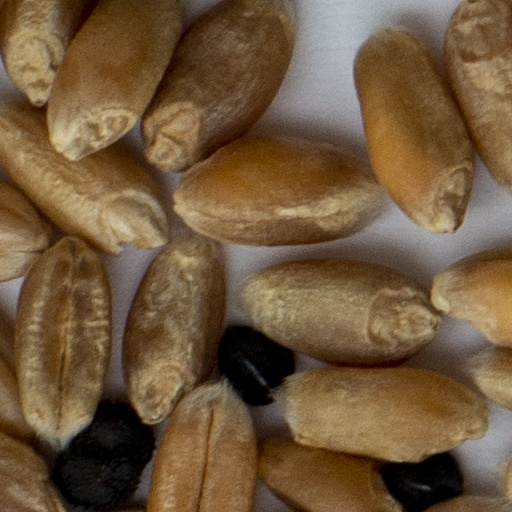Agrostemma-poly: (50, 404, 153, 511)
Fallopia-Convolvulus-poly: (219, 329, 292, 405), (381, 455, 461, 510)
